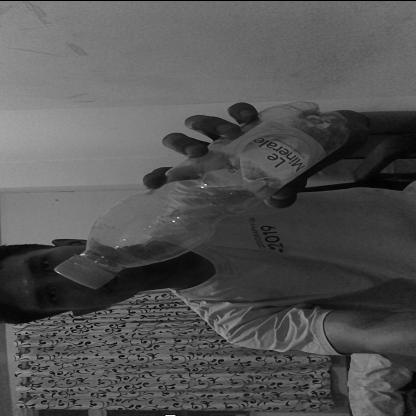plastic_bottles: (49, 101, 351, 289)
